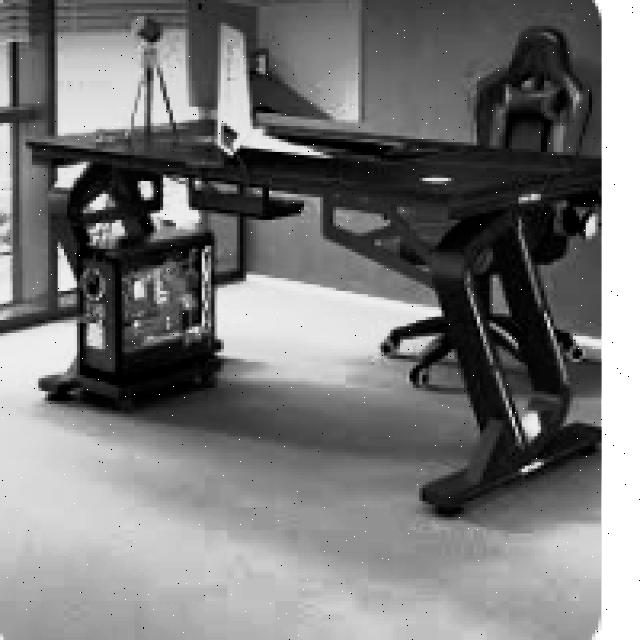book: (378, 23, 592, 388)
table: (22, 113, 598, 514)
